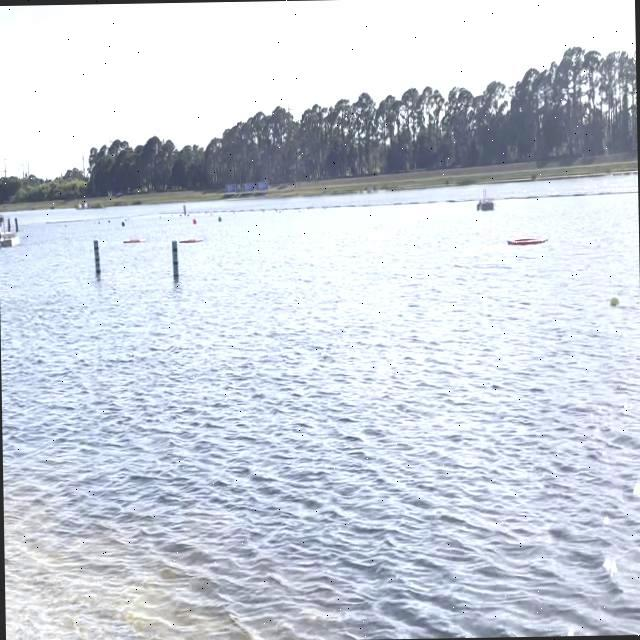buoy: (608, 296, 620, 308), (192, 217, 197, 225), (216, 215, 222, 221), (121, 219, 125, 227)
